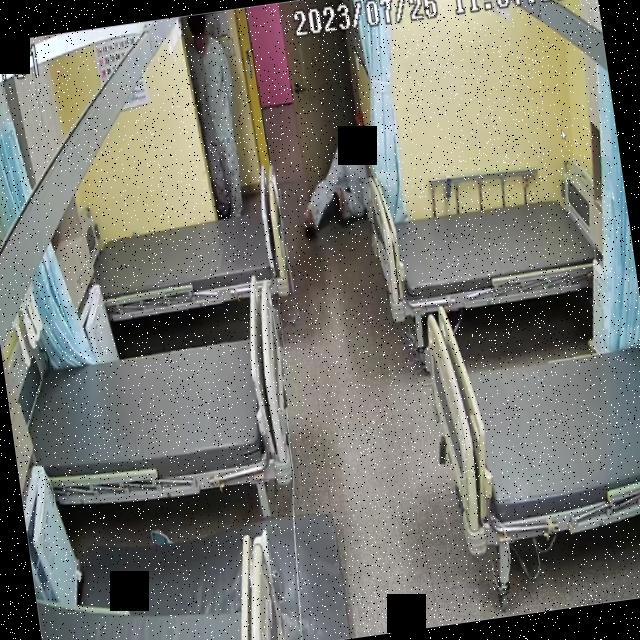bed: (419, 279, 640, 552), (17, 324, 299, 512), (366, 173, 614, 323), (89, 198, 290, 320)
fall: (290, 134, 376, 242)
patient: (183, 12, 245, 220), (290, 129, 381, 243)
stand: (182, 12, 244, 218)
